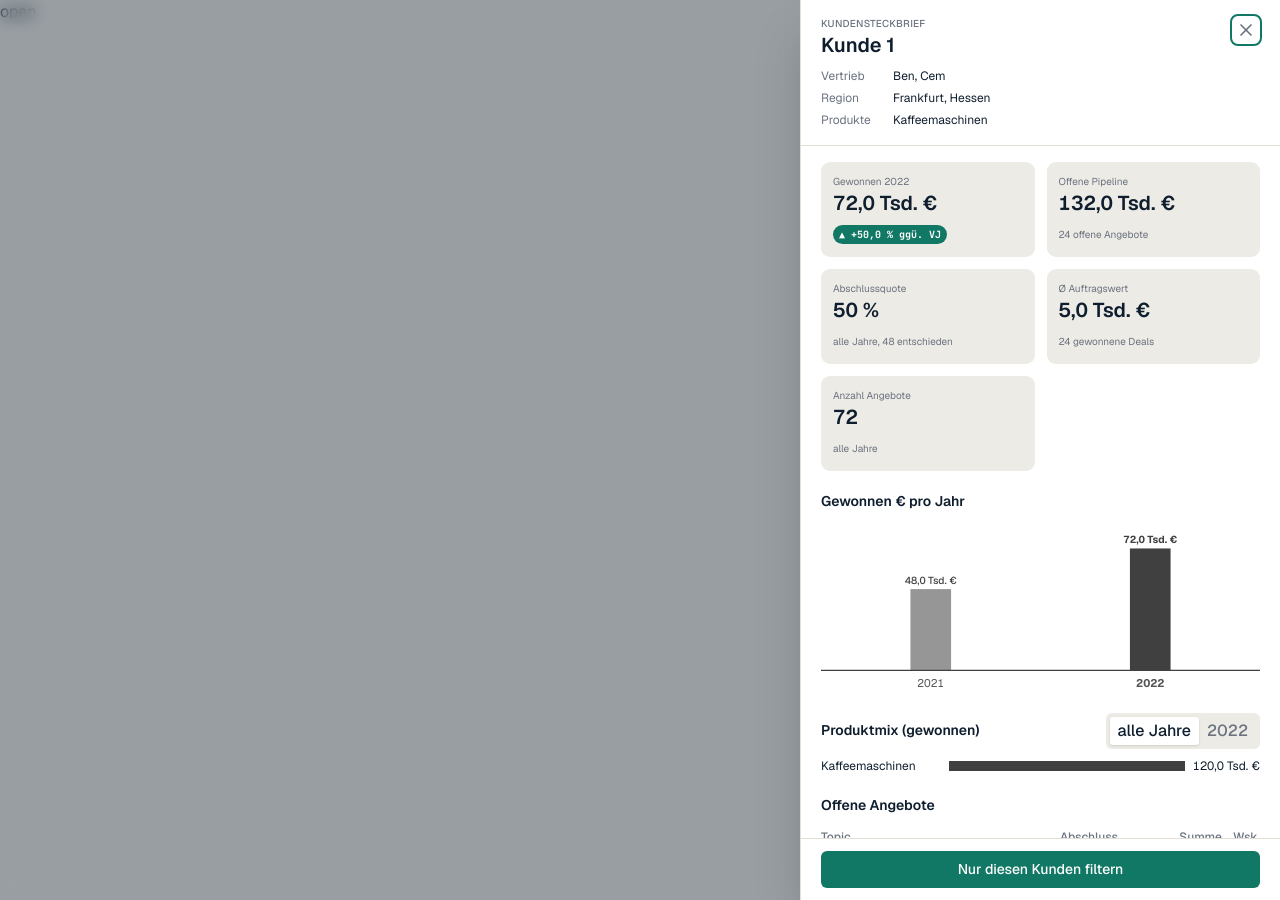
Test: CustomerPanel › filters to the customer and closes
Click the button "Nur diesen Kunden filtern": (1040, 870) [821,851,1260,888]
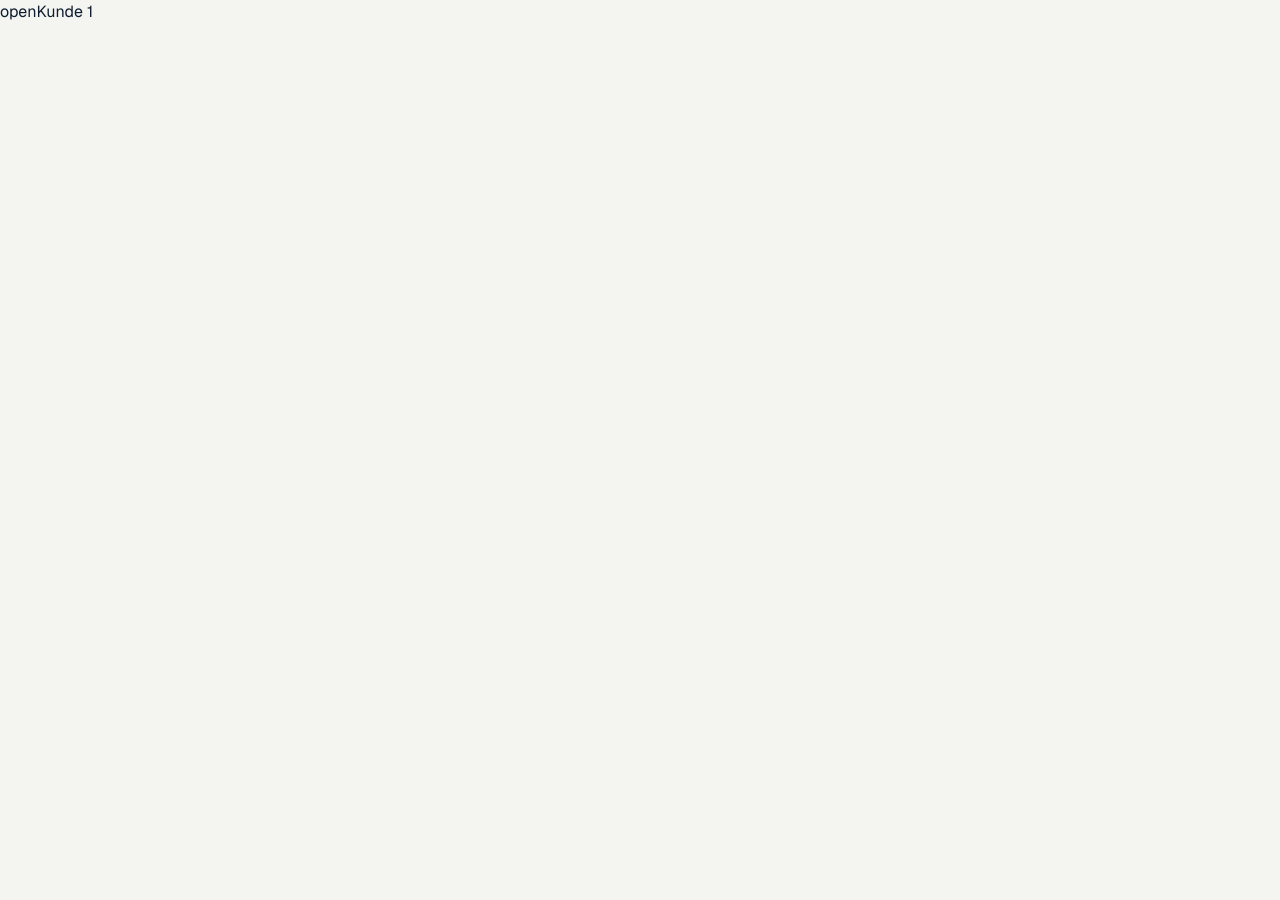
Expected: the text with test id "filter" reads "Kunde 1", [36,1,93,22]
Result: the dialog is gone
